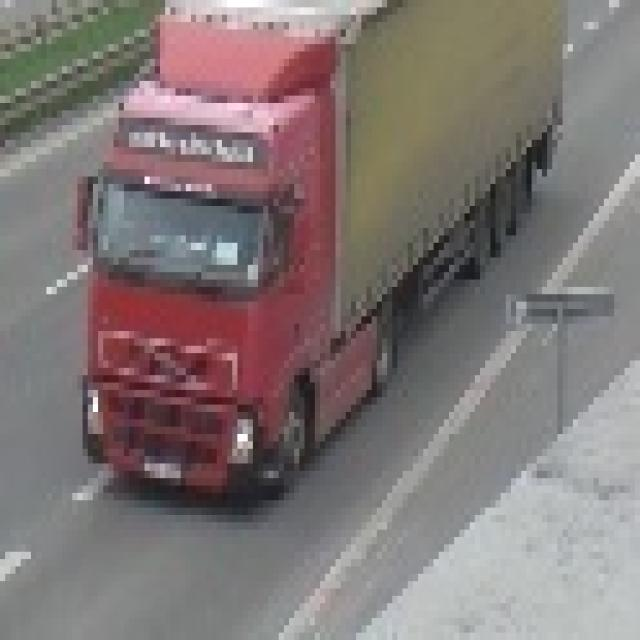TRUCK: (70, 1, 564, 504)
